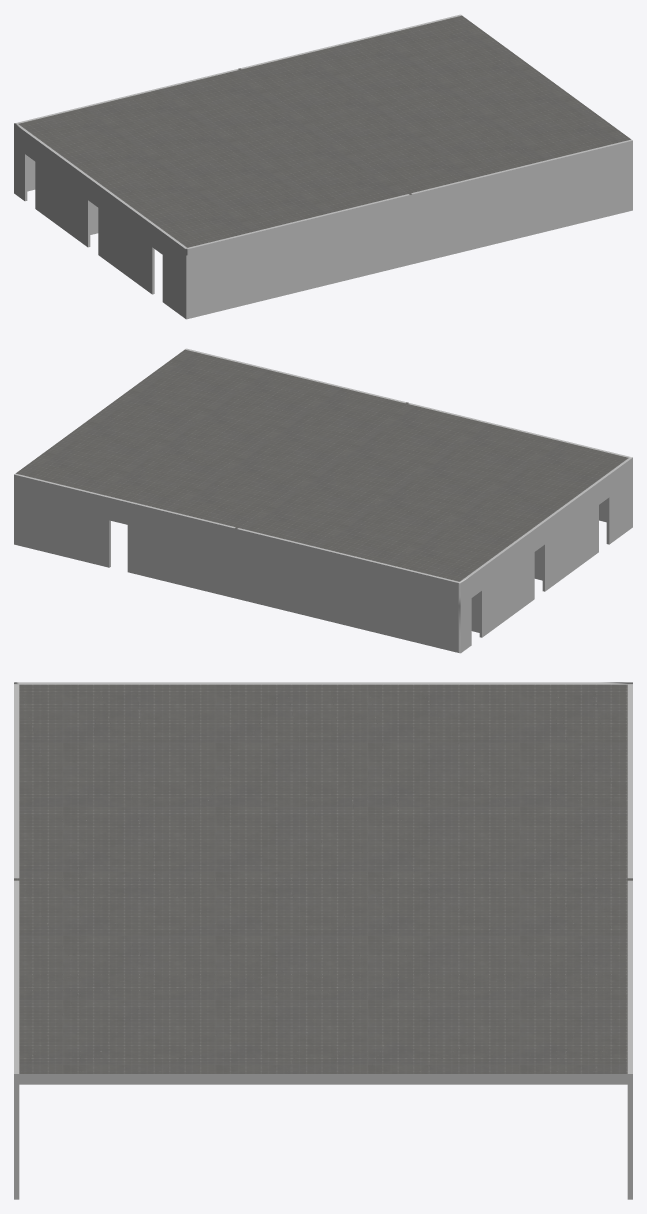
File: WallsAndDoors1.fbx
3 views of the same model, one above another, from view 1: azimuth 30°, elevation 25°; view 2: azimuth 150°, elevation 25°; view 3: azimuth 270°, elevation 25° (orthographic). The views are drawn at different scales.
Visible parts, largest first — view 1: WallsAndDoors1; view 2: WallsAndDoors1; view 3: WallsAndDoors1.
Part boxes in pixels (left/top/right/bottom): WallsAndDoors1: left=14, top=14, right=632, bottom=319; WallsAndDoors1: left=14, top=348, right=632, bottom=653; WallsAndDoors1: left=14, top=682, right=632, bottom=1199.
Bounding box in the file's own units: 20.06 × 3 × 13.4.
